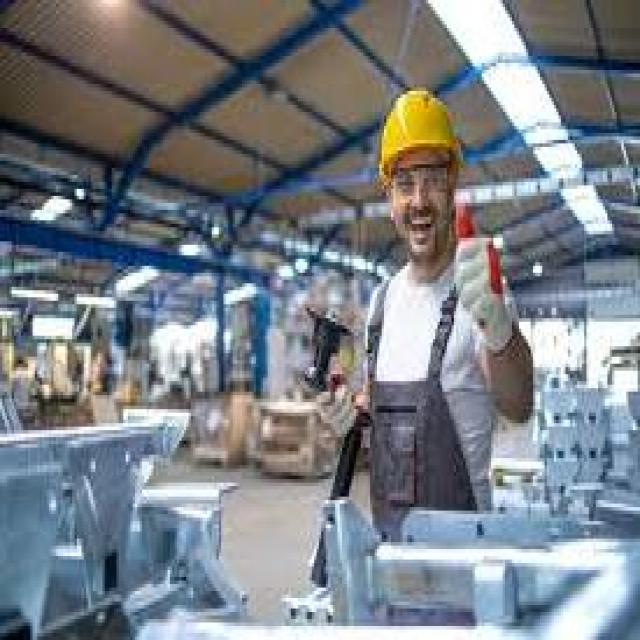Safety-Helmet: (370, 80, 477, 186)
